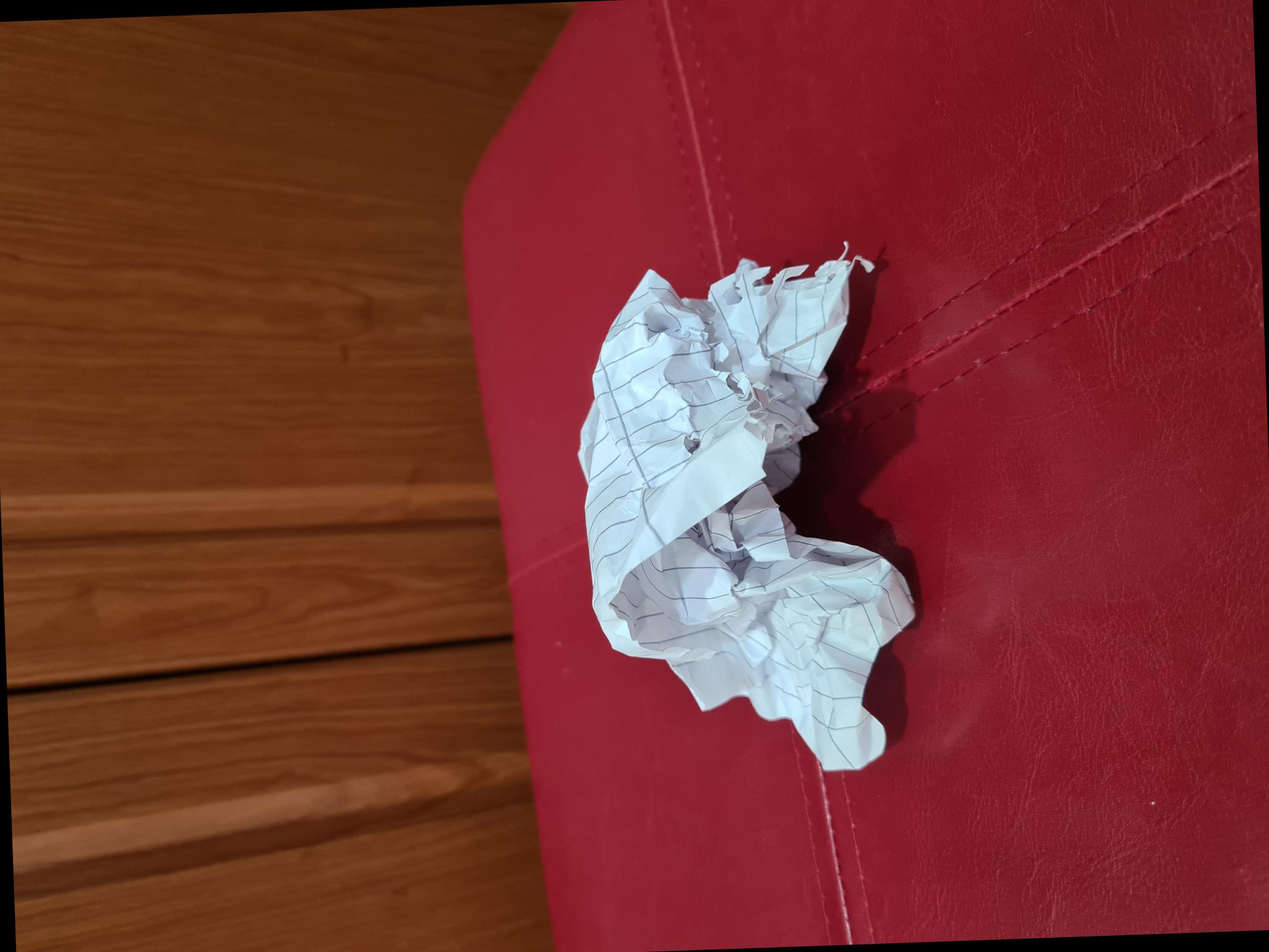Kertas: (176, 581, 713, 922)
